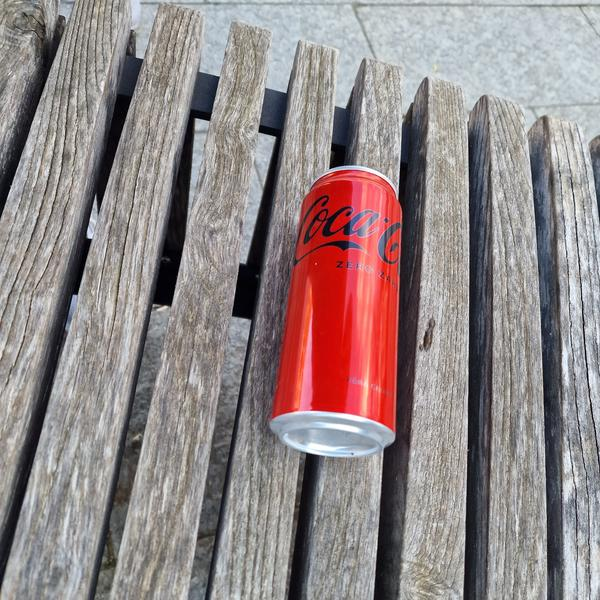can: (263, 158, 436, 467)
